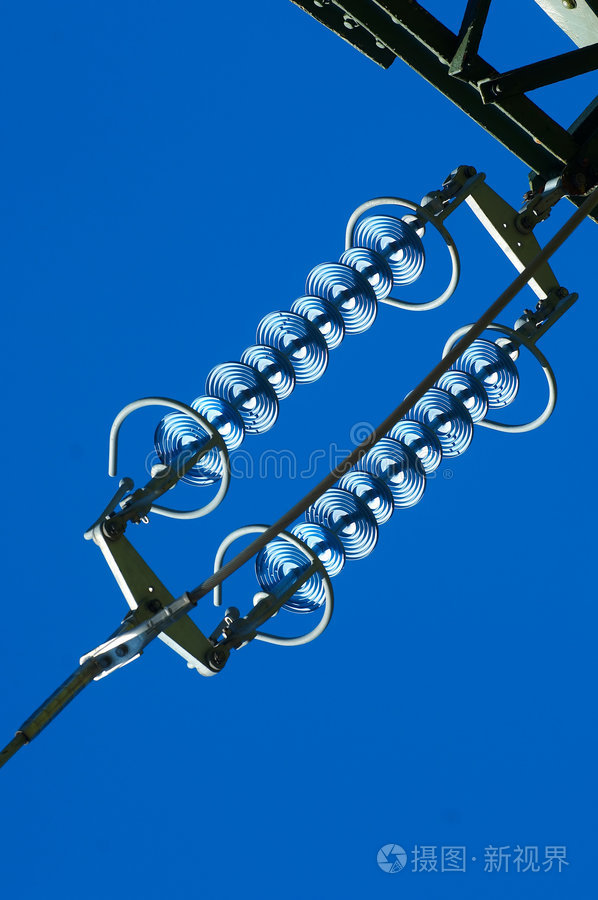insulator: (255, 340, 519, 615), (150, 215, 424, 477)
